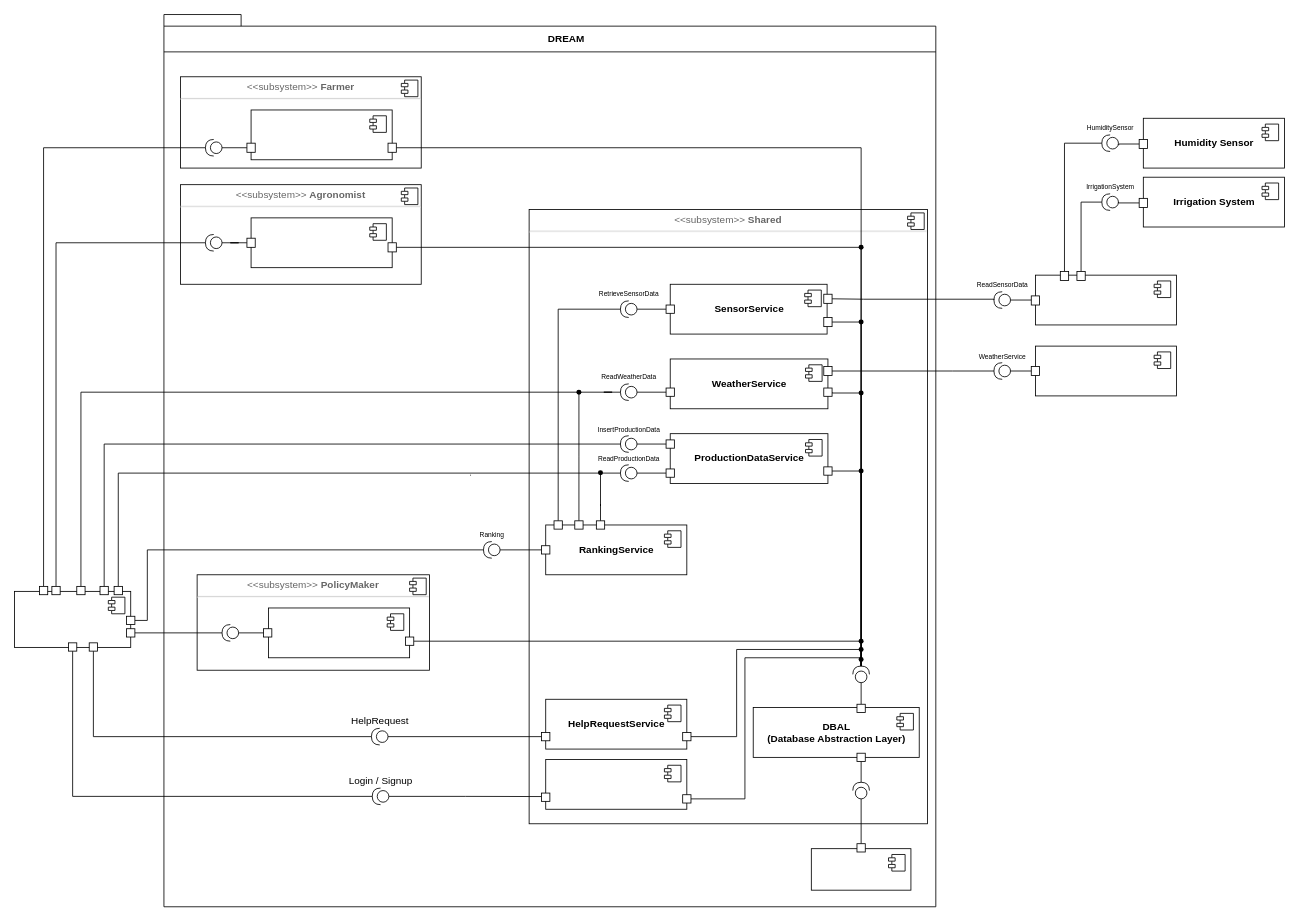
Image size: 1299x921. Some labels were removed from this diagram. The centre of each missing label's shape, as x and y in pixels:
"Analytics" belongs at pixel 230 632.
"AnalyticsService" belongs at pixel 339 632.
"AuthenticationService" belongs at pixel 616 784.
"DailyPlan" belongs at pixel 213 242.
"DailyPlanService" belongs at pixel 321 242.
"Database" belongs at pixel 860 674.
"DBMS" belongs at pixel 860 869.
"External Weather Service (TSDPS)" belongs at pixel 1106 370.
"Forum" belongs at pixel 213 147.
"ForumService" belongs at pixel 321 134.
"Sensor Hub" belongs at pixel 1106 299.
"Webapp" belongs at pixel 72 619.
